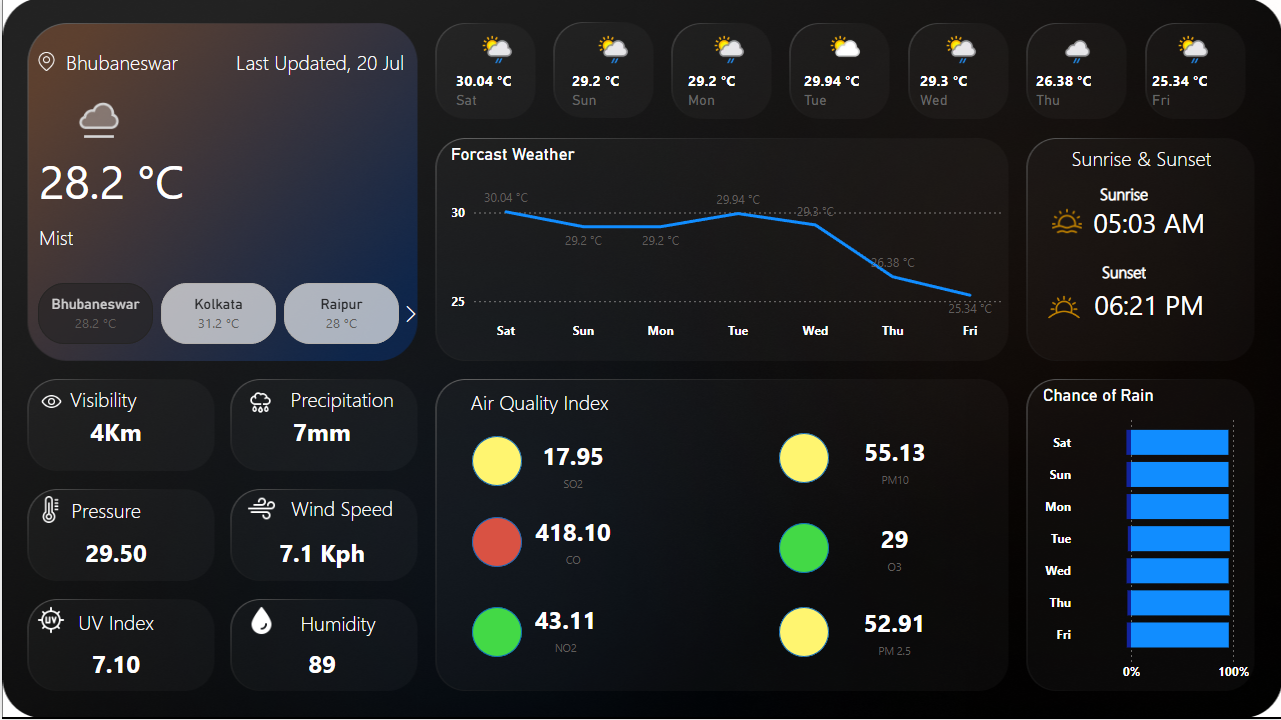

What the dashboard file says about the page in this screenshot:
{"tool":"powerbi","page":{"name":"Page 1","canvas":[1280,720],"ordinal":0},"visuals":[{"type":"advancedSlicerVisual","fields":{"Values":["Location.location.name"]},"box":[10.7,279.1,413.4,71],"z":0},{"type":"shape","box":[37,215,153.3,44.2],"z":1000},{"type":"shape","box":[37,123.5,322.1,114.2],"z":2000},{"type":"shape","box":[63.8,41.2,153.3,43.2],"z":3000},{"type":"image","box":[10.3,48.4,68.9,28.8],"z":4000},{"type":"shape","box":[233.6,41.2,172.9,43.2],"z":5000},{"type":"cardVisual","fields":{"Data":["Min(Current Data.current.condition.icon)"]},"box":[0,48.4,150.2,142],"z":6000},{"type":"image","box":[10.3,385.9,78.2,32.9],"z":7000},{"type":"shape","box":[67.9,385.9,110.1,26.8],"z":8000},{"type":"image","box":[205.8,489.8,107,39.1],"z":9000},{"type":"image","box":[237.7,601.9,43.2,39.1],"z":10000},{"type":"image","box":[29.8,599.9,38.1,42.2],"z":11000},{"type":"image","box":[15.4,491.8,66.9,37],"z":12000},{"type":"image","box":[217.1,385.9,83.3,35],"z":13000},{"type":"shape","box":[285,385.9,110.1,26.8],"z":14000},{"type":"shape","box":[49.4,497,110.1,26.8],"z":15000},{"type":"shape","box":[285,489.8,110.1,37],"z":16000},{"type":"shape","box":[58.6,604,110.1,37],"z":17000},{"type":"shape","box":[280.9,605,110.1,37],"z":18000},{"type":"card","fields":{"Values":["_Measures.Visibility_KM"]},"box":[38.1,402.3,152.3,62.8],"z":19000},{"type":"card","fields":{"Values":["_Measures.precipitation_in mm"]},"box":[243.9,402.3,152.3,62.8],"z":20000},{"type":"card","fields":{"Values":["Sum(Current Data.current.pressure_in)"]},"box":[38.1,523.7,152.3,62.8],"z":21000},{"type":"card","fields":{"Values":["_Measures.Wind_Speed"]},"box":[243.9,523.7,152.3,62.8],"z":22000},{"type":"card","fields":{"Values":["Sum(Current Data.current.uv)"]},"box":[38.1,633.8,152.3,62.8],"z":23000},{"type":"card","fields":{"Values":["Sum(Current Data.current.humidity)"]},"box":[243.9,633.8,152.3,62.8],"z":24000},{"type":"advancedSlicerVisual","fields":{"Values":["Forcast Data.Day_Name"]},"box":[436.2,26.5,816.3,100.6],"z":25000},{"type":"lineChart","title":"Forcast Weather","fields":{"Y":["Avg(Forcast Data.forecast.forecastday.day.avgtemp_c)"],"Category":["Forcast Data.Day_Name"]},"box":[444.5,144.9,559.3,205.2],"z":26000},{"type":"shape","box":[1043.6,144.9,191.6,26.3],"z":27000},{"type":"shape","box":[1088.4,190.6,117.7,64.2],"z":28000},{"type":"shape","box":[1088.4,272.3,117.7,64.2],"z":29000},{"type":"image","box":[1040.7,202.3,47.7,39.9],"z":30000},{"type":"image","box":[1035.9,279.1,52.5,56.4],"z":31000},{"type":"shape","box":[1088.4,180.9,67.1,26.3],"z":32000},{"type":"shape","box":[1088.4,258.7,67.1,26.3],"z":33000},{"type":"hundredPercentStackedBarChart","title":"Chance of Rain","fields":{"Y":["Sum(Forcast Days.forecast.forecastday.hour.chance_of_rain)","_Measures.Left_Value_Rain"],"Category":["Forcast Data.Day_Name"]},"box":[1035.9,386.1,215.9,304.4],"z":34000},{"type":"shape","box":[454.2,389.1,166.3,26.3],"z":35000},{"type":"card","fields":{"Values":["Sum(Current Data.current.air_quality.pm10)"]},"box":[795,426,196,71],"z":36000},{"type":"card","fields":{"Values":["Sum(Current Data.current.air_quality.so2)"]},"box":[480,429,182,72],"z":37000},{"type":"card","fields":{"Values":["Sum(Current Data.current.air_quality.co)"]},"box":[492,510,158,63],"z":38000},{"type":"card","fields":{"Values":["Sum(Current Data.current.air_quality.o3)"]},"box":[816,518,153,61],"z":39000},{"type":"card","fields":{"Values":["Sum(Current Data.current.air_quality.no2)"]},"box":[487,599,153,61],"z":40000},{"type":"card","fields":{"Values":["Sum(Current Data.current.air_quality.pm2_5)"]},"box":[816,602,153,61],"z":41000},{"type":"shape","box":[470,437,50,50],"z":42000},{"type":"shape","box":[470,518,50,50],"z":43000},{"type":"shape","box":[470,608,50,50],"z":44000},{"type":"shape","box":[777,434,50,50],"z":45000},{"type":"shape","box":[777,524,50,50],"z":46000},{"type":"shape","box":[777,608,50,50],"z":47000}]}

Visuals, with their boxes in screenshot pixels (x1, y1, x2, y2), scaled from the page's 1280x720 canvas onto the 1281x720 screenshot:
advancedSlicerVisual - Location.location.name: 11 279 424 350
shape: 37 215 190 259
shape: 37 124 359 238
shape: 64 41 217 84
image: 10 48 79 77
shape: 234 41 407 84
cardVisual - Min(Current Data.current.condition.icon): 0 48 150 190
image: 10 386 89 419
shape: 68 386 178 413
image: 206 490 313 529
image: 238 602 281 641
image: 30 600 68 642
image: 15 492 82 529
image: 217 386 301 421
shape: 285 386 395 413
shape: 49 497 160 524
shape: 285 490 395 527
shape: 59 604 169 641
shape: 281 605 391 642
card - _Measures.Visibility_KM: 38 402 191 465
card - _Measures.precipitation_in mm: 244 402 397 465
card - Sum(Current Data.current.pressure_in): 38 524 191 586
card - _Measures.Wind_Speed: 244 524 397 586
card - Sum(Current Data.current.uv): 38 634 191 697
card - Sum(Current Data.current.humidity): 244 634 397 697
advancedSlicerVisual - Forcast Data.Day_Name: 437 26 1253 127
"Forcast Weather" lineChart: 445 145 1005 350
shape: 1044 145 1236 171
shape: 1089 191 1207 255
shape: 1089 272 1207 336
image: 1042 202 1089 242
image: 1037 279 1089 336
shape: 1089 181 1156 207
shape: 1089 259 1156 285
"Chance of Rain" hundredPercentStackedBarChart: 1037 386 1253 690
shape: 455 389 621 415
card - Sum(Current Data.current.air_quality.pm10): 796 426 992 497
card - Sum(Current Data.current.air_quality.so2): 480 429 663 501
card - Sum(Current Data.current.air_quality.co): 492 510 651 573
card - Sum(Current Data.current.air_quality.o3): 817 518 970 579
card - Sum(Current Data.current.air_quality.no2): 487 599 640 660
card - Sum(Current Data.current.air_quality.pm2_5): 817 602 970 663
shape: 470 437 520 487
shape: 470 518 520 568
shape: 470 608 520 658
shape: 778 434 828 484
shape: 778 524 828 574
shape: 778 608 828 658
